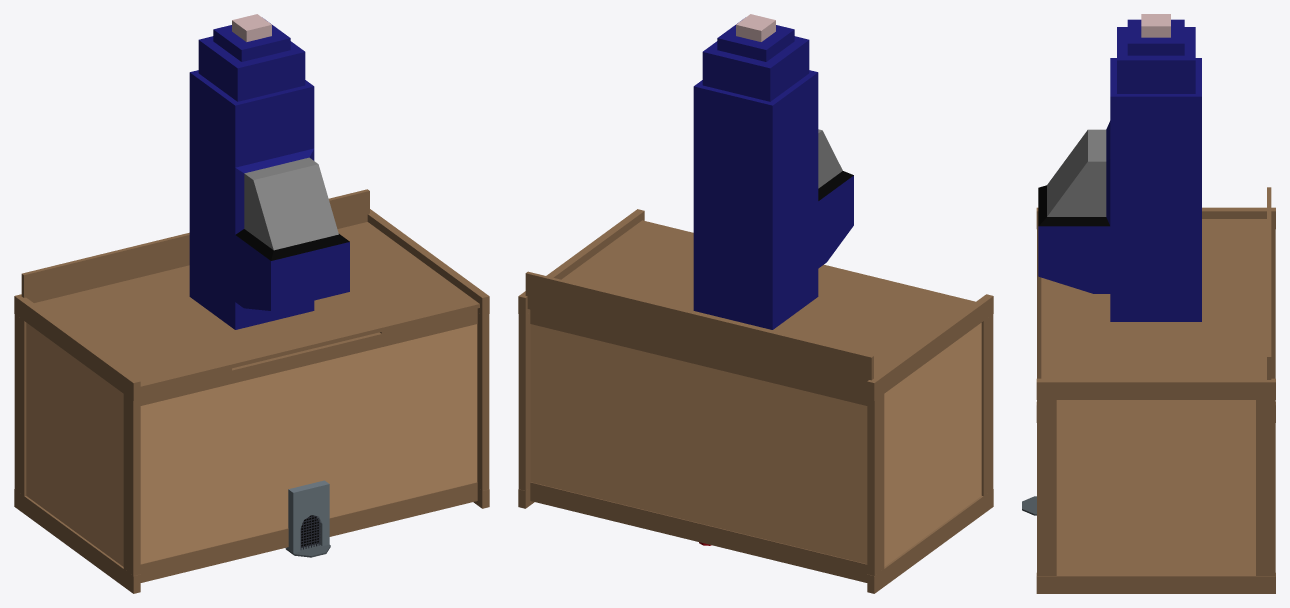
Rendered from bgjassets.gltf.
3 views of the same model, side by side, from view 1: azimuth 30°, elevation 25°; view 2: azimuth 150°, elevation 25°; view 3: azimuth 270°, elevation 25° (orthographic).
Visible parts, largest first — view 1: Toybox, Rocket; view 2: Toybox, Rocket; view 3: Toybox, Rocket.
Part boxes in pixels (bbox=[...]): Toybox: bbox=[14, 189, 489, 593]; Rocket: bbox=[189, 14, 349, 329]; Toybox: bbox=[518, 209, 993, 593]; Rocket: bbox=[693, 14, 853, 545]; Toybox: bbox=[1022, 187, 1275, 593]; Rocket: bbox=[1038, 14, 1201, 321].
Size of the model in its own units: 49 by 64.2 by 30.12.
